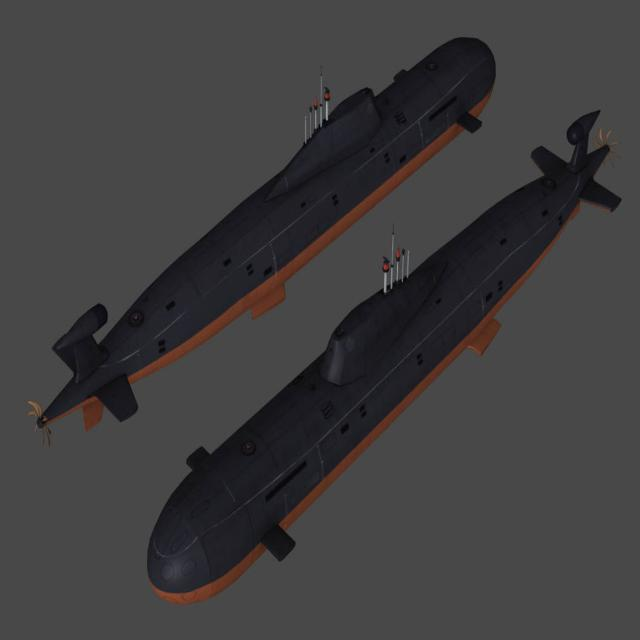Submarine-Akula-Class-IND: (138, 102, 628, 624), (28, 22, 500, 456)
